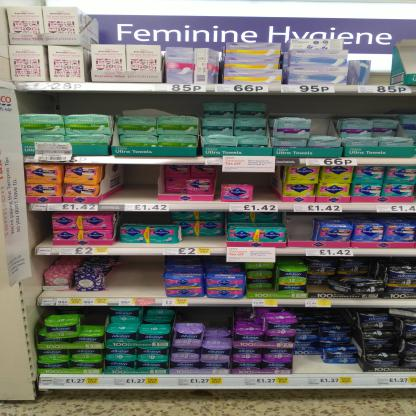Void: (19, 91, 201, 114), (270, 96, 394, 115), (115, 258, 160, 294), (176, 306, 232, 323), (125, 168, 152, 196), (288, 215, 314, 240), (255, 171, 275, 202), (29, 212, 48, 244), (376, 47, 391, 85), (84, 306, 103, 327), (315, 119, 335, 134)
